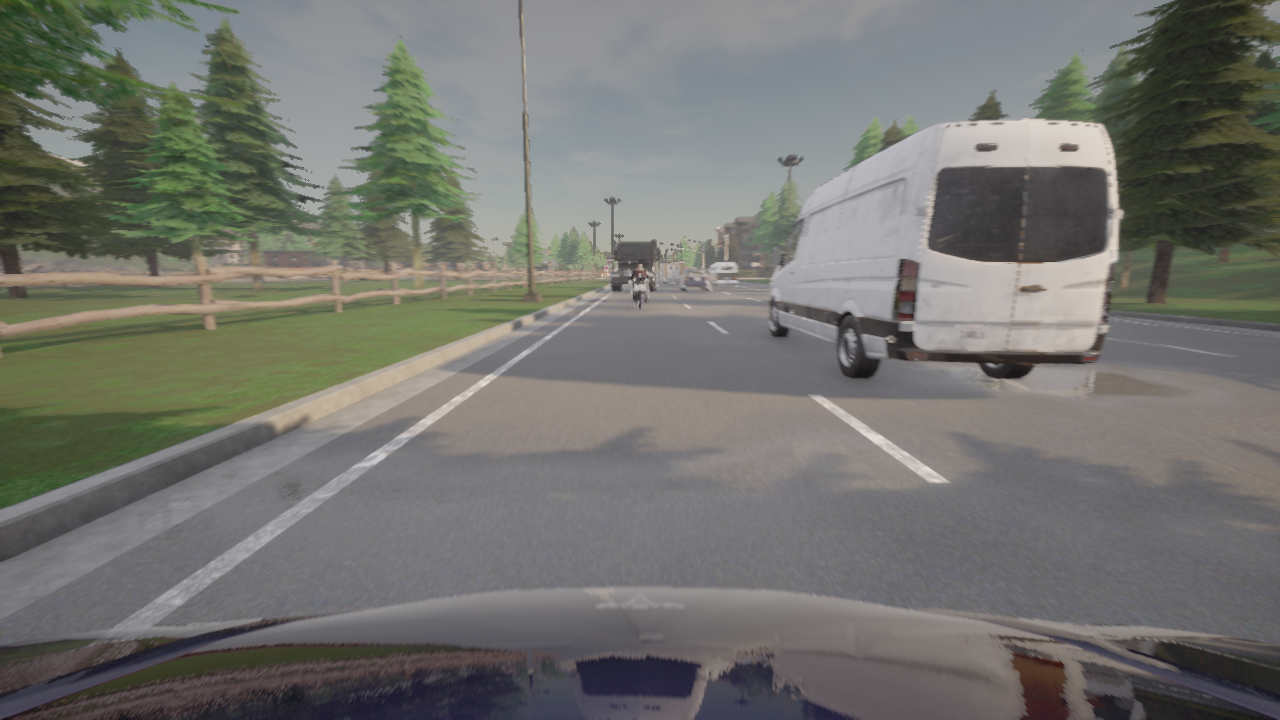cyclist: (0, 588, 1279, 719), (768, 120, 1121, 379), (610, 240, 659, 292), (628, 274, 651, 309), (679, 268, 709, 292), (708, 263, 736, 287), (659, 261, 684, 284)
